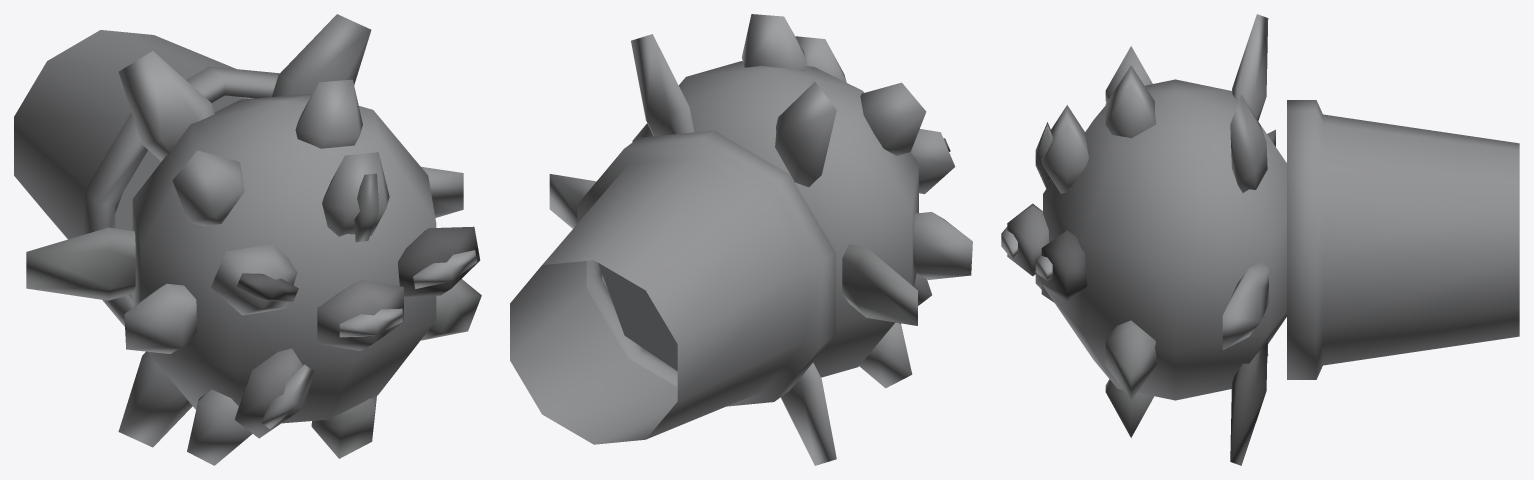
3 renders of one model, left to right at view 1: azimuth 30°, elevation 25°; view 2: azimuth 150°, elevation 25°; view 3: azimuth 270°, elevation 25°, orthographic. The views are drawn at different scales.
Size of the model in its own units: 0.2695 by 0.2501 by 0.3163.
